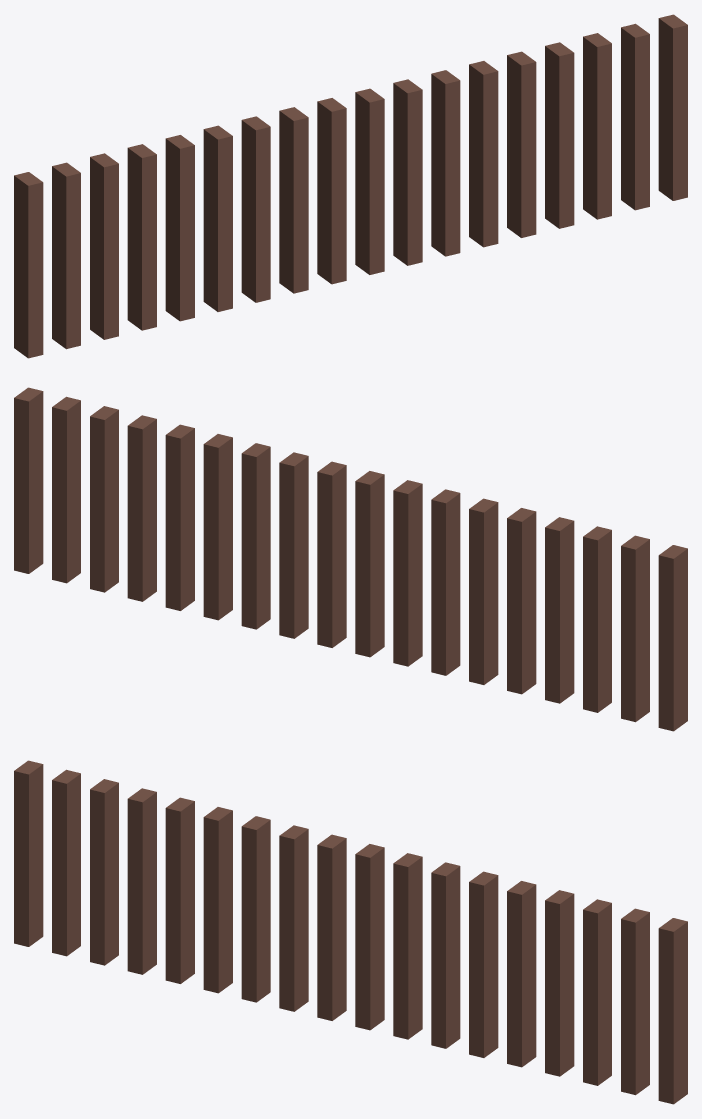
Rendered from ladder_003.fbx.
3 views of the same model, one above another, from view 1: azimuth 30°, elevation 25°; view 2: azimuth 150°, elevation 25°; view 3: azimuth 330°, elevation 25° (orthographic).
Parts seen in each view (by area): view 1: ladder_003; view 2: ladder_003; view 3: ladder_003.
Boxes of the visible parts, <box> form: ladder_003: <box>14,14,687,358</box>; ladder_003: <box>14,387,687,731</box>; ladder_003: <box>14,760,687,1104</box>.
Bounding box in the file's own units: 400 × 15 × 100.
